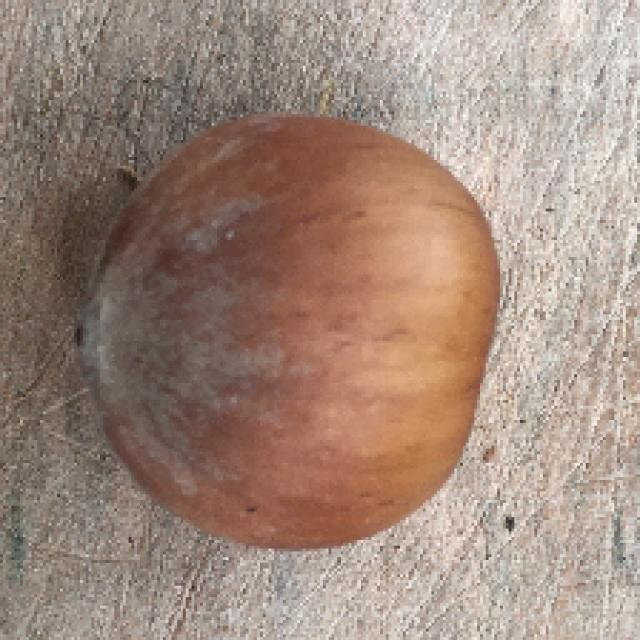qualityHazelnut: (74, 117, 502, 540)
